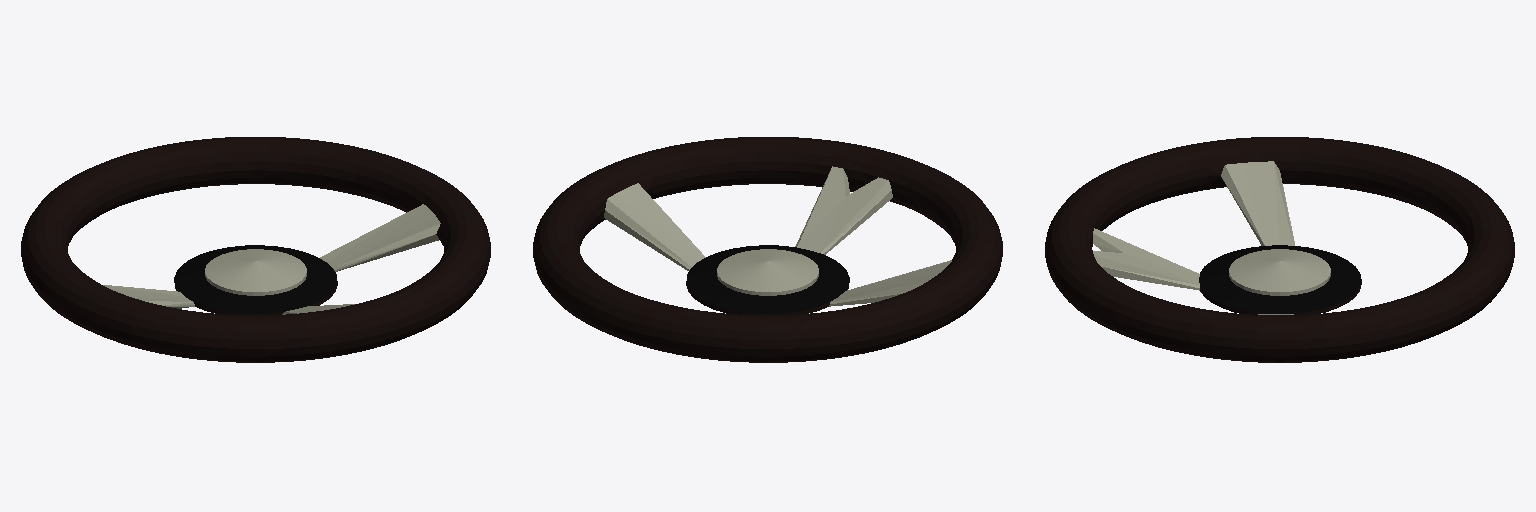
The model's file is steering_wheel.obj.
The picture shows the model from 3 angles: view 1: azimuth 30°, elevation 25°; view 2: azimuth 150°, elevation 25°; view 3: azimuth 270°, elevation 25°; orthographic projection.
Bounding box in the file's own units: 1.88 × 0.2458 × 1.88.